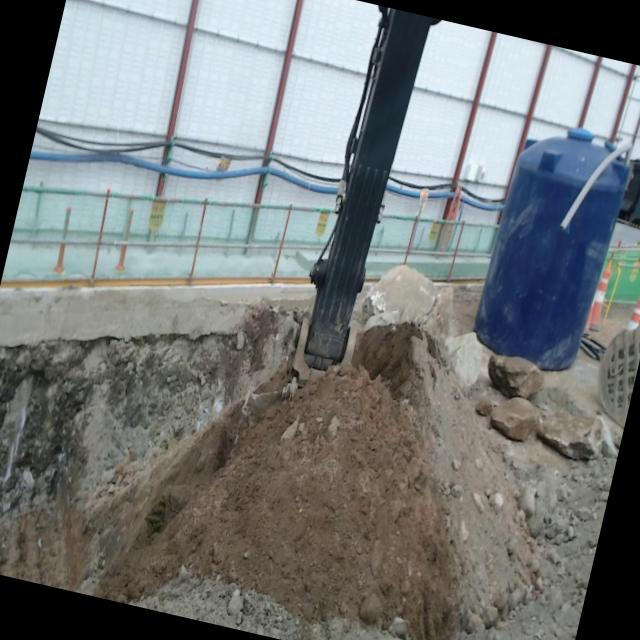cement: (0, 284, 314, 346)
sand: (0, 301, 616, 640)
stone: (364, 265, 453, 348), (536, 407, 601, 460), (487, 354, 543, 399), (444, 331, 483, 389), (489, 397, 536, 441)
